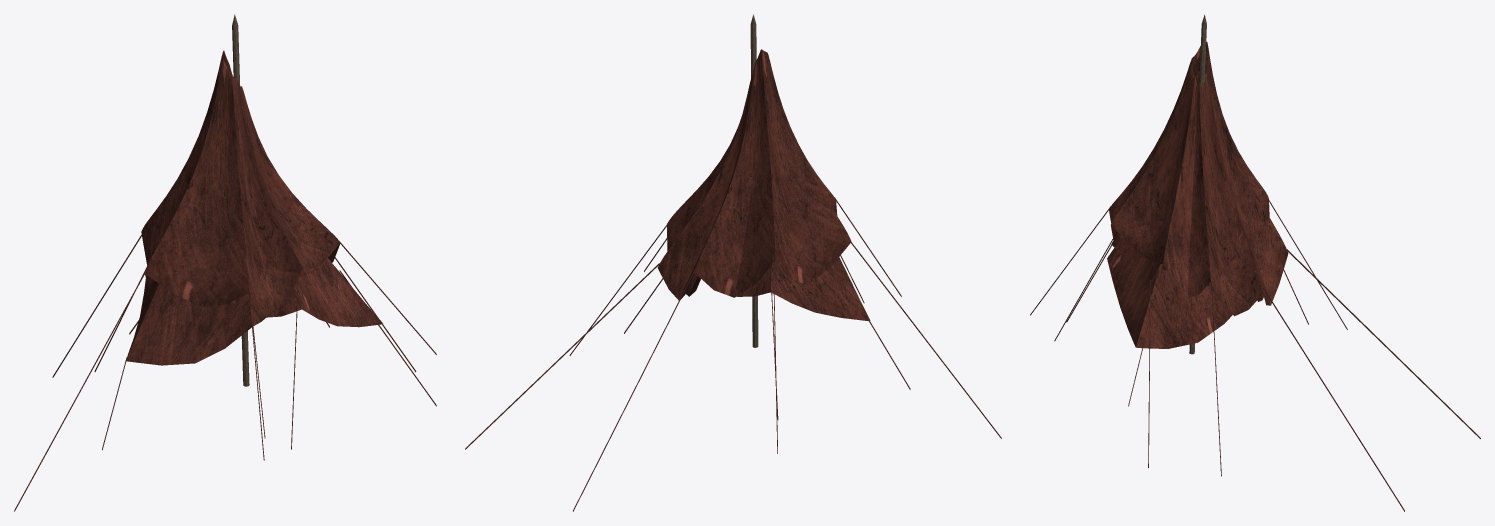
The model's file is toldo_pequeno.glb.
3 renders of one model, left to right at view 1: azimuth 30°, elevation 25°; view 2: azimuth 150°, elevation 25°; view 3: azimuth 270°, elevation 25°, orthographic. The views are drawn at different scales.
Parts seen in each view (by area): view 1: toldo_pequeno; view 2: toldo_pequeno; view 3: toldo_pequeno.
Boxes of the visible parts, x1,y1,x2,y2 form: toldo_pequeno: (14, 14, 436, 511); toldo_pequeno: (465, 14, 1001, 511); toldo_pequeno: (1030, 14, 1480, 511).
Size of the model in its own units: 3.45 by 3.25 by 3.26.
Materials: 2 (2 with a texture image).
